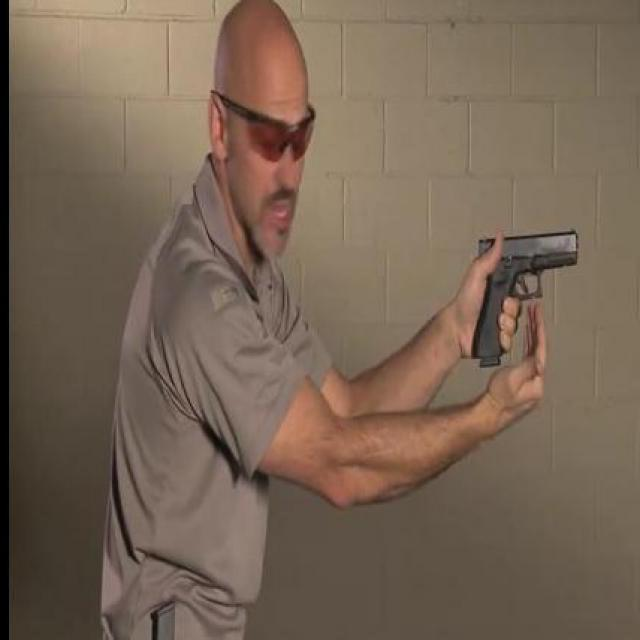weapon: (471, 230, 582, 368)
